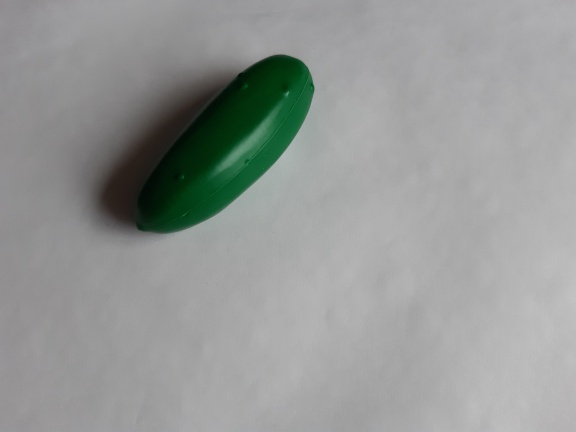cucumber: (127, 49, 327, 239)
